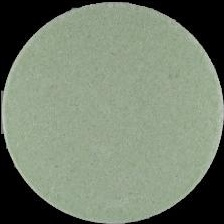55154-5407: (0, 0, 224, 224)
